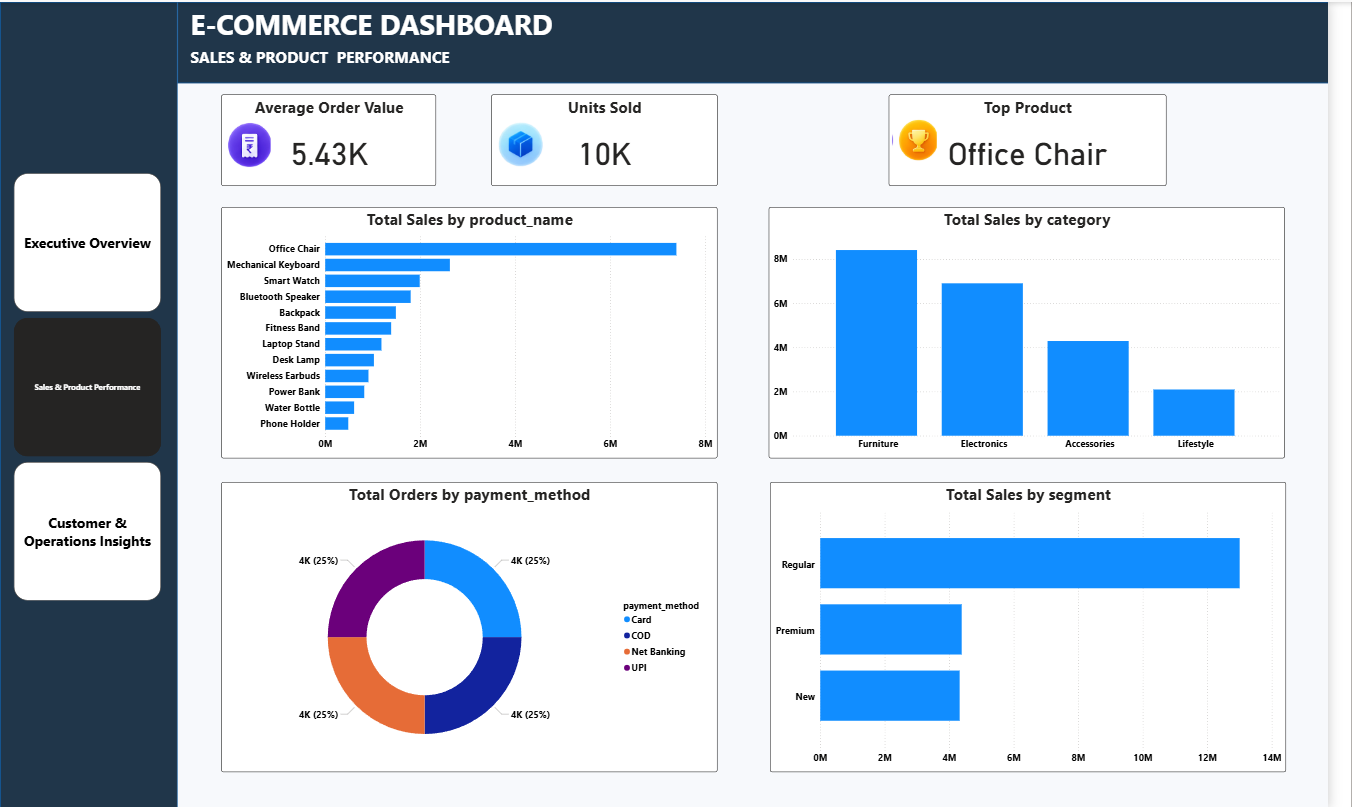

The dashboard page shown, as its layout file describes it:
{"tool":"powerbi","page":{"name":"Sales & Product Performance","canvas":[2300,1400],"ordinal":1},"visuals":[{"type":"card","title":"Units Sold","fields":{"Values":["ecommerce_ai orders.Units Sold"]},"box":[850.7,160.2,391.8,158],"z":0},{"type":"card","title":"Average Order Value","fields":{"Values":["ecommerce_ai orders.Average Order Value"]},"box":[383.1,160.2,372.3,158],"z":1000},{"type":"card","title":"Top Product","fields":{"Values":["ecommerce_ai products.Top Product"]},"box":[1539,160.2,480.5,158],"z":2000},{"type":"clusteredBarChart","fields":{"Category":["ecommerce_ai products.product_name"],"Y":["ecommerce_ai orders.Total Sales"]},"box":[383.1,355,859.3,435.1],"z":3000},{"type":"clusteredColumnChart","fields":{"Category":["ecommerce_ai products.category"],"Y":["ecommerce_ai orders.Total Sales"]},"box":[1331.2,355,893.9,435.1],"z":4000},{"type":"donutChart","fields":{"Category":["ecommerce_ai payments.payment_method"],"Y":["ecommerce_ai orders.Total Orders"]},"box":[383.1,831.2,859.3,502.2],"z":5000},{"type":"clusteredBarChart","fields":{"Category":["ecommerce_ai customers.segment"],"Y":["ecommerce_ai orders.Total Sales"]},"box":[1333.3,831.2,893.9,502.2],"z":6000},{"type":"shape","box":[0,0,307.4,1400.4],"z":7000},{"type":"shape","box":[307.4,0,1993.5,140.7],"z":8000},{"type":"textbox","box":[324.7,0,917.8,99.6],"z":9000},{"type":"textbox","box":[324.7,71.4,621.2,49.8],"z":10000},{"type":"pageNavigator","box":[23.8,296.5,255.4,740.3],"z":11000},{"type":"image","box":[383.1,160.2,90.9,158],"z":11001},{"type":"image","box":[850.7,184,95.2,110.4],"z":11002},{"type":"image","box":[1539,184,88.7,95.2],"z":11003}]}

Visuals, with their boxes in screenshot pixels (x1, y1, x2, y2), scaled from the page's 2300x1400 canvas onto the 1352x807 screenshot:
"Units Sold" card: crop(500, 92, 730, 183)
"Average Order Value" card: crop(225, 92, 444, 183)
"Top Product" card: crop(905, 92, 1187, 183)
clusteredBarChart - ecommerce_ai products.product_name x ecommerce_ai orders.Total Sales: crop(225, 205, 730, 455)
clusteredColumnChart - ecommerce_ai products.category x ecommerce_ai orders.Total Sales: crop(783, 205, 1308, 455)
donutChart - ecommerce_ai payments.payment_method x ecommerce_ai orders.Total Orders: crop(225, 479, 730, 769)
clusteredBarChart - ecommerce_ai customers.segment x ecommerce_ai orders.Total Sales: crop(784, 479, 1309, 769)
shape: crop(0, 0, 181, 806)
shape: crop(181, 0, 1351, 81)
textbox: crop(191, 0, 730, 57)
textbox: crop(191, 41, 556, 70)
pageNavigator: crop(14, 171, 164, 598)
image: crop(225, 92, 279, 183)
image: crop(500, 106, 556, 170)
image: crop(905, 106, 957, 161)
